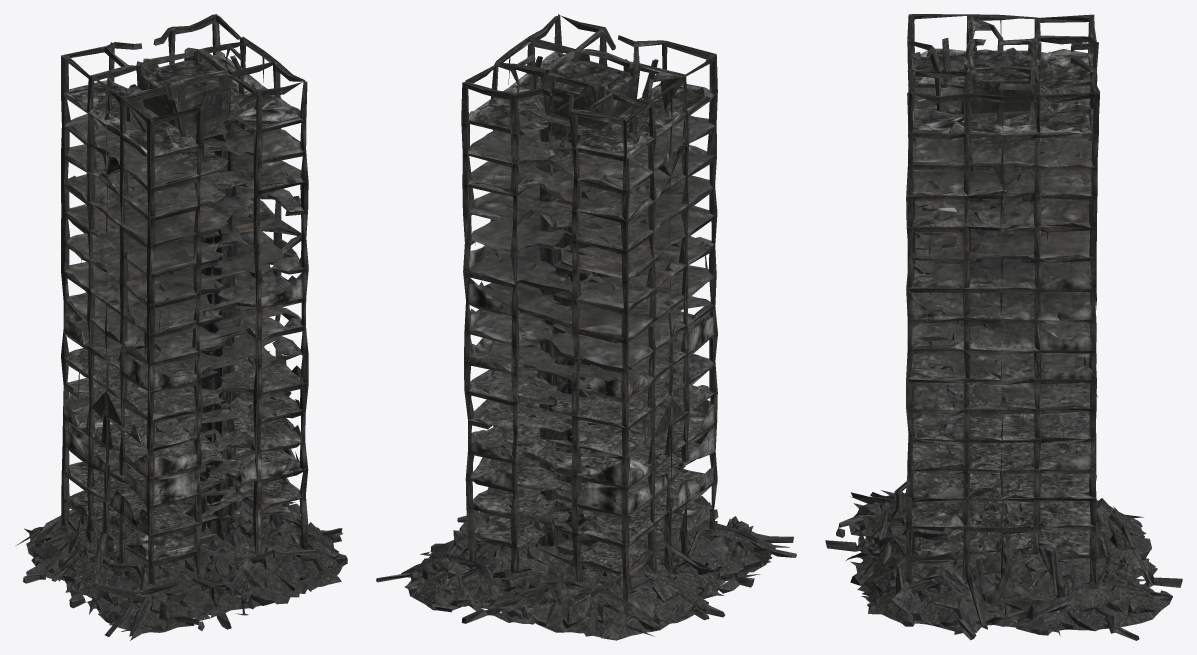
The model's file is city_tower_c.glb.
3 renders of one model, left to right at view 1: azimuth 30°, elevation 25°; view 2: azimuth 150°, elevation 25°; view 3: azimuth 270°, elevation 25°, orthographic. The views are drawn at different scales.
Visible parts, largest first — view 1: Mesh_0; view 2: Mesh_0; view 3: Mesh_0.
Boxes of the visible parts, <box> form: Mesh_0: <box>16,14,347,640</box>; Mesh_0: <box>376,14,796,640</box>; Mesh_0: <box>825,14,1182,640</box>.
Bounding box in the file's own units: 1.17 × 1.9 × 1.19.
Materials: 1 (1 with a texture image).
